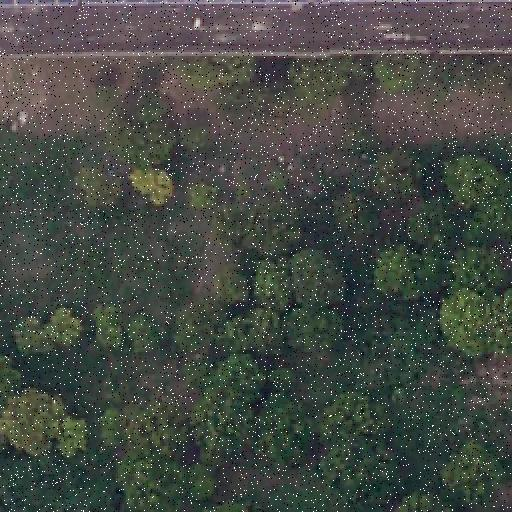solar-panel: (82, 1, 310, 7), (313, 0, 511, 4), (1, 0, 79, 8)
